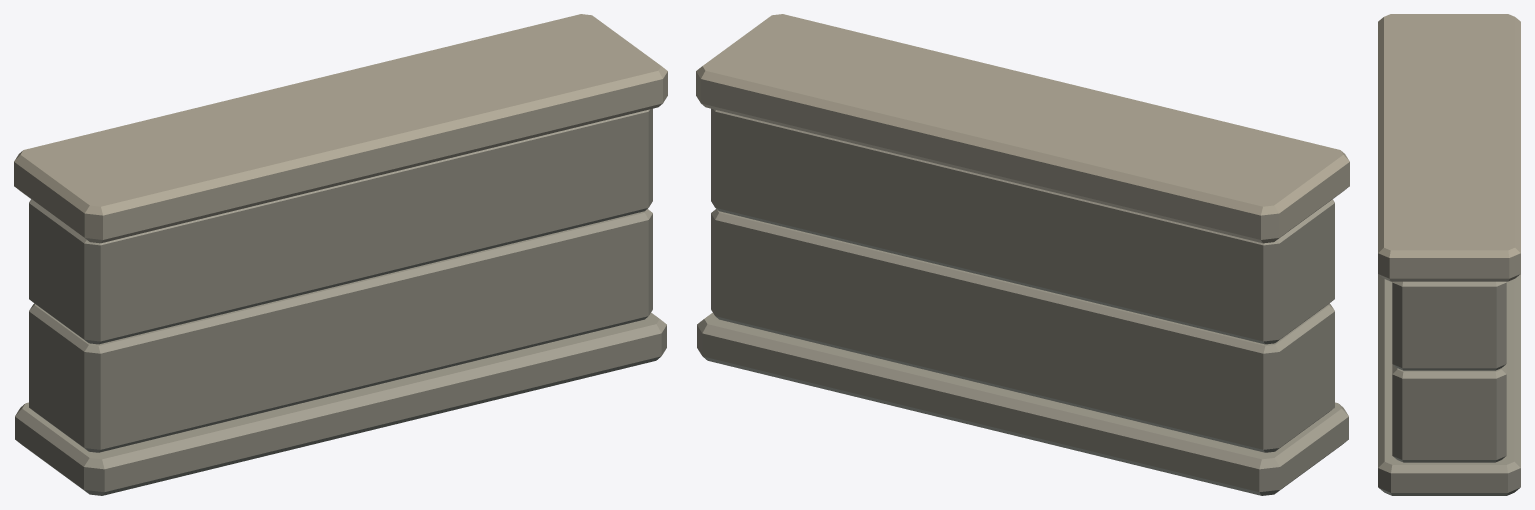
The model's file is wall-straight.glb.
3 views of the same model, side by side, from view 1: azimuth 30°, elevation 25°; view 2: azimuth 150°, elevation 25°; view 3: azimuth 270°, elevation 25° (orthographic). The views are drawn at different scales.
Parts seen in each view (by area): view 1: wall-straight; view 2: wall-straight; view 3: wall-straight.
Boxes of the visible parts, x1,y1,x2,y2 form: wall-straight: (14,14,667,495); wall-straight: (696,14,1349,495); wall-straight: (1378,14,1520,495).
Size of the model in its own units: 2 by 0.95 by 0.5.
